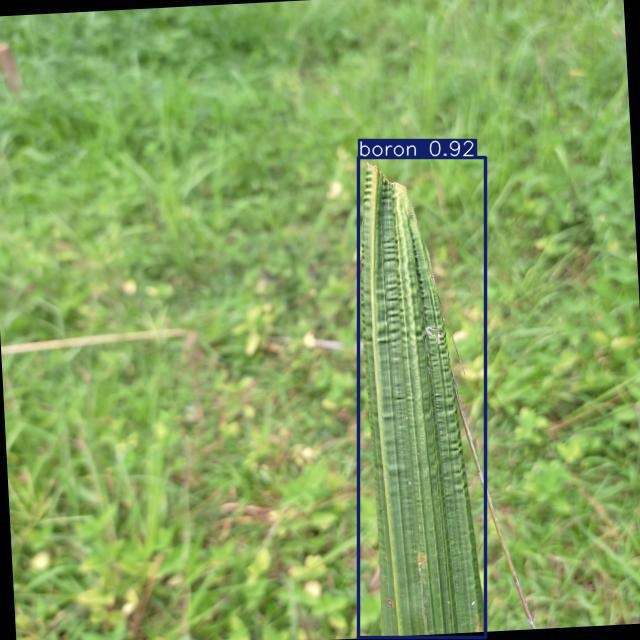nitrogen: (358, 158, 485, 637)
